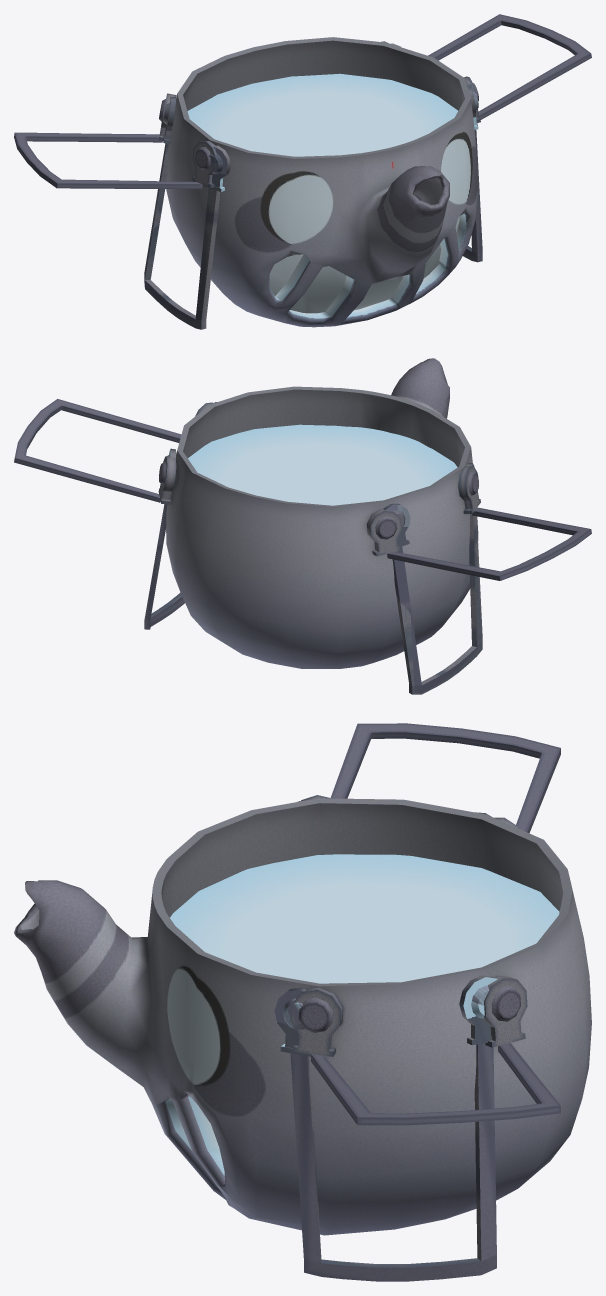
Rendered from Hu Small _ .fbx.
The picture shows the model from 3 angles, top to bottom: view 1: azimuth 30°, elevation 25°; view 2: azimuth 150°, elevation 25°; view 3: azimuth 270°, elevation 25°; orthographic projection. The views are drawn at different scales.
Parts seen in each view (by area): view 1: body, water, handle (×2), R_Handle, plug (×2), L_Handle; view 2: body, water, handle (×2), R_Handle, plug (×3), L_Handle; view 3: body, water, L_Handle, handle (×2), plug (×2).
Part boxes in pixels (x1,y1,x2,y2): body: [166, 37, 478, 327]; water: [187, 73, 457, 156]; handle (×2): [14, 14, 591, 189]; R_Handle: [144, 143, 219, 329]; plug (×2): [158, 43, 478, 191]; L_Handle: [463, 129, 482, 262]; body: [166, 358, 478, 668]; water: [188, 424, 457, 505]; handle (×2): [14, 399, 591, 580]; R_Handle: [392, 514, 482, 694]; plug (×3): [158, 402, 480, 556]; L_Handle: [144, 504, 184, 629]; body: [14, 798, 591, 1235]; water: [170, 854, 559, 983]; L_Handle: [290, 1043, 496, 1281]; handle (×2): [311, 723, 560, 1125]; plug (×2): [274, 801, 527, 1056].
Bounding box in the file's own units: 175 × 65.93 × 108.
